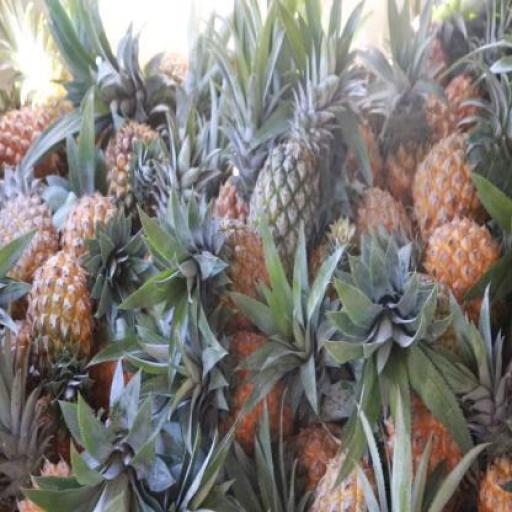Pineapple - v8 v1: (29, 256, 90, 382), (415, 135, 486, 237), (423, 214, 496, 303)
